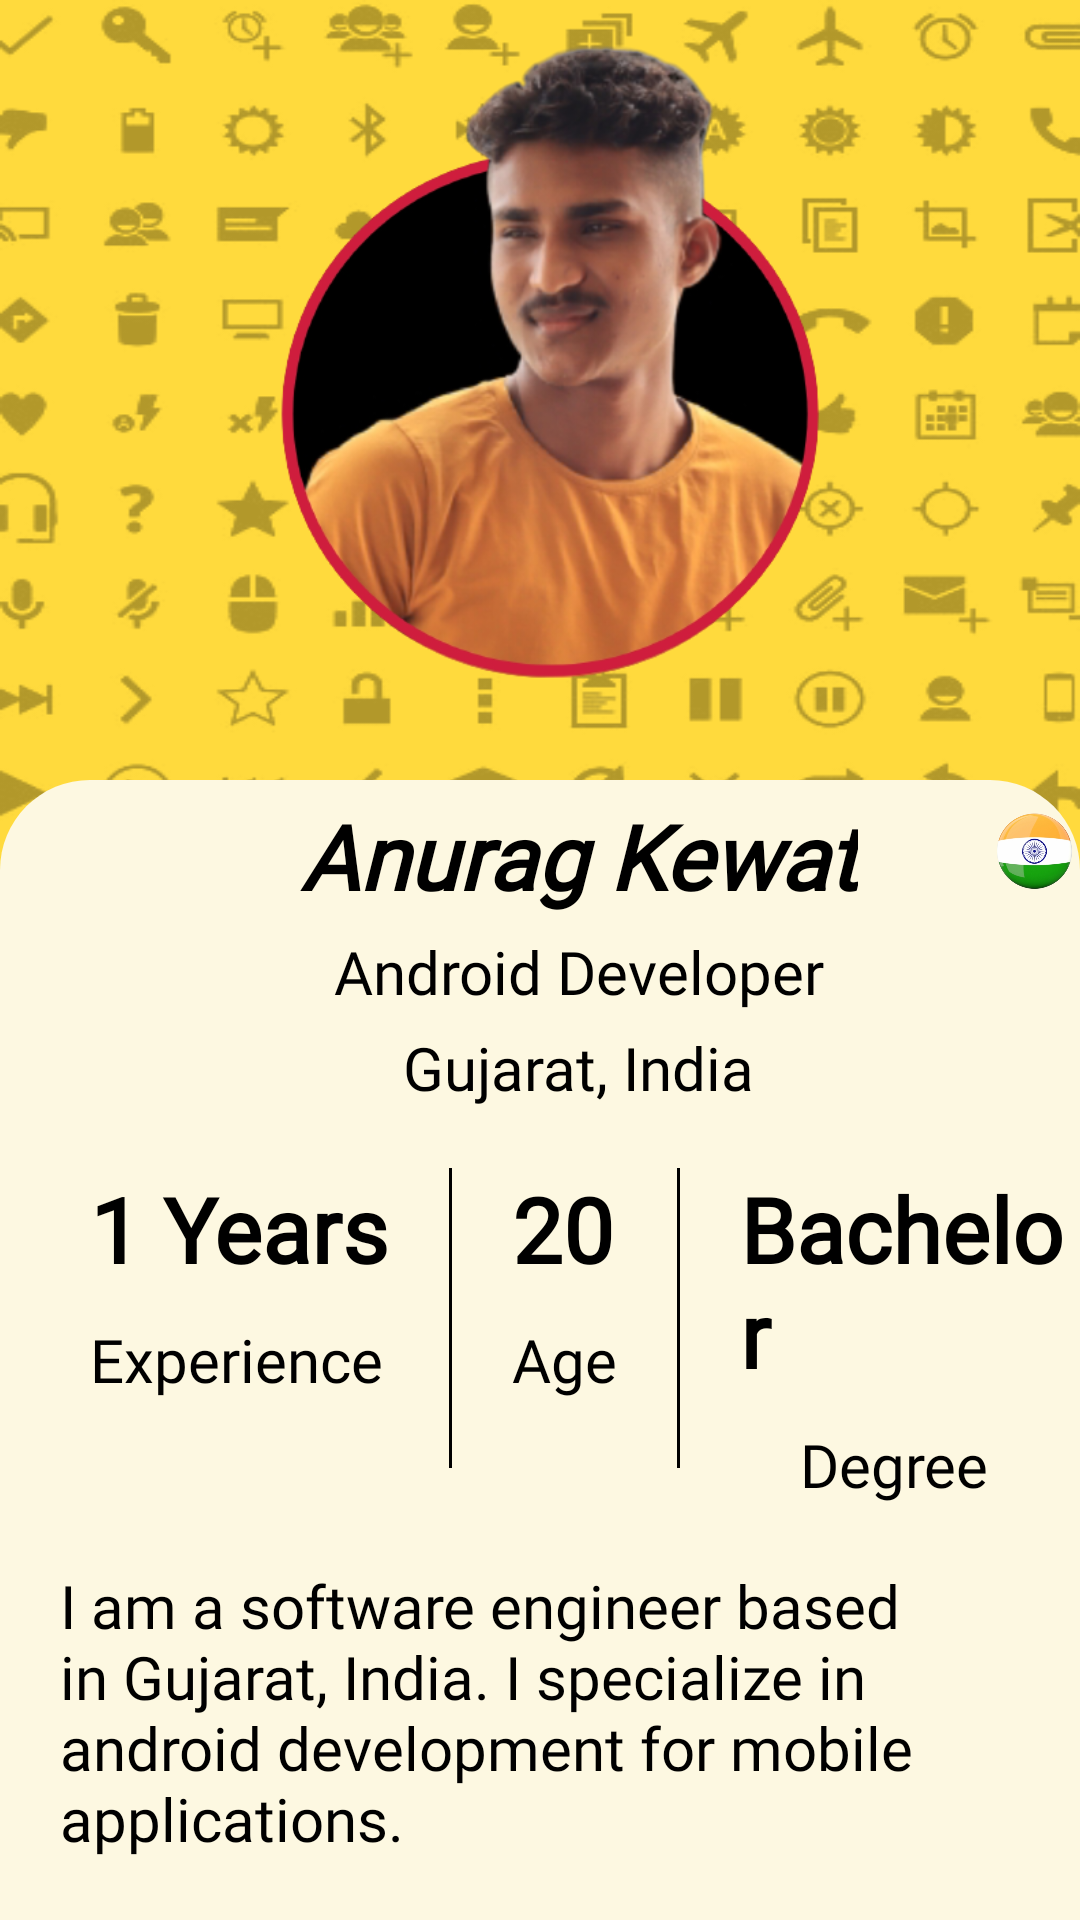

Named icons in this screenshot (1080w x 1920h) and their bounding boxes, (left=x1, top=y1, right=x2, bottom=y2):
indiabg: (left=997, top=813, right=1072, bottom=889)
